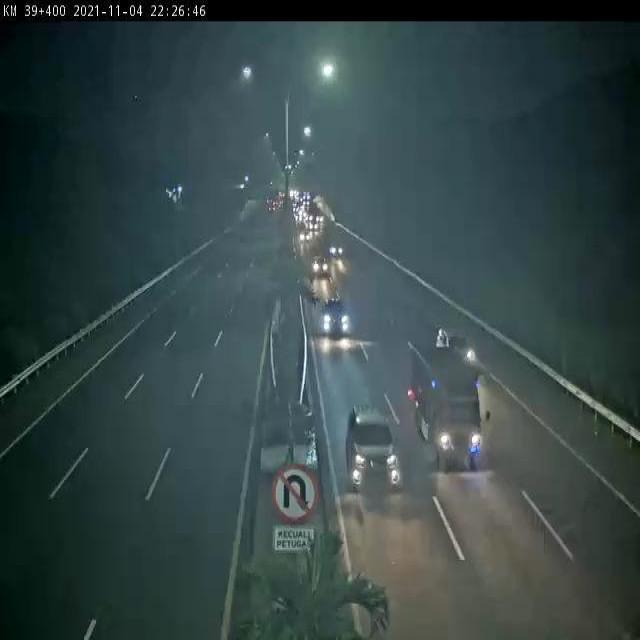car: (347, 405, 402, 492), (320, 295, 349, 337)
truck: (403, 327, 496, 471)
